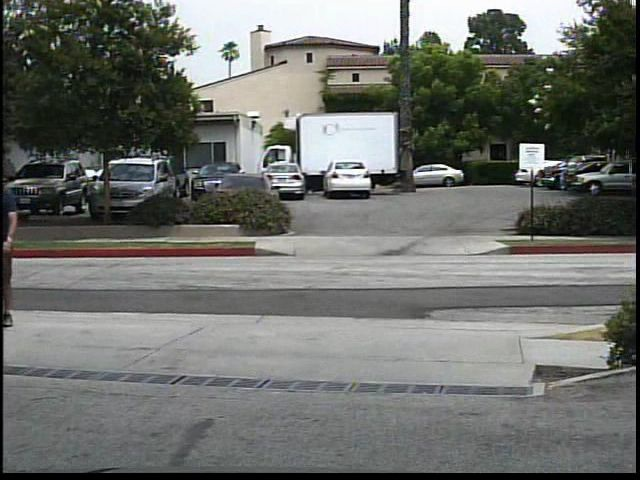person: (0, 161, 32, 332)
